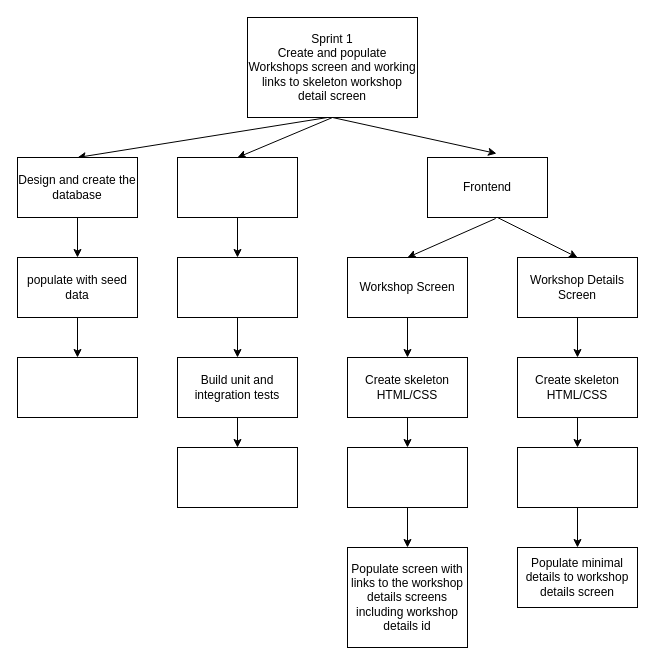
This 655x665 diagram has some shape labels left out. Here are the shapes that lost their labels. From the top down, the centre of each, then its label:
At point 237,187: "Backend".
At point 237,287: "Design and implement the backend routes".
At point 77,387: "Create the elephantSQL database".
At point 237,477: "Design the JSend objects to be sent to the front end".
At point 407,477: "Issue fetch request for all workshops".
At point 577,477: "Issue fetch request for single workshop".
